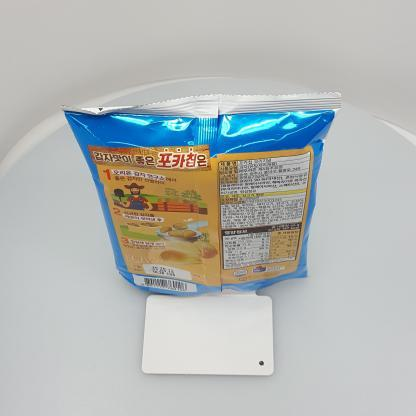Plastic Packaging: (44, 80, 342, 316)
